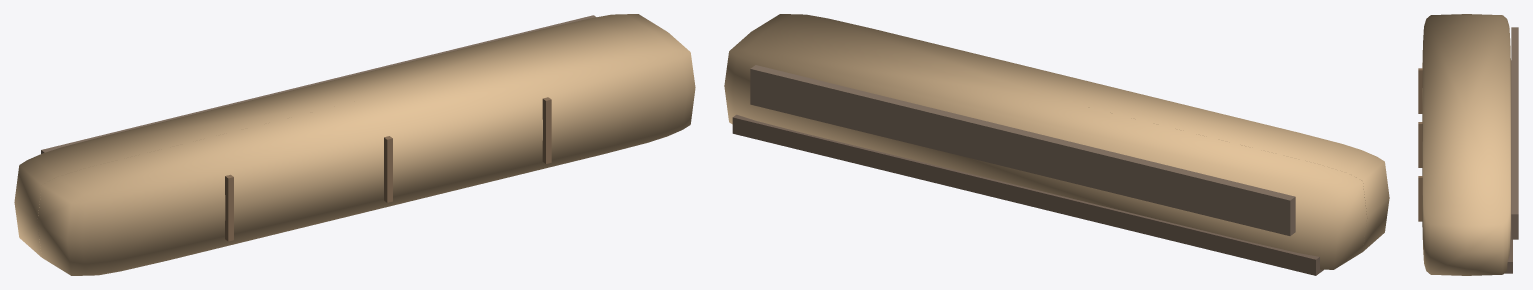
File: floating_tv_cabinet_2000x350.glb
The picture shows the model from 3 angles, left to right: view 1: azimuth 30°, elevation 25°; view 2: azimuth 150°, elevation 25°; view 3: azimuth 270°, elevation 25°; orthographic projection. The views are drawn at different scales.
Parts seen in each view (by area): view 1: low_media_body, front_door_gap (×3), wall_mount_shadow; view 2: low_media_body, wall_mount_shadow, dark_recess_shadow; view 3: low_media_body, wall_mount_shadow, front_door_gap (×3), dark_recess_shadow.
Boxes of the visible parts, bbox=[...] form: low_media_body: bbox=[14, 14, 695, 275]; front_door_gap (×3): bbox=[225, 97, 551, 241]; wall_mount_shadow: bbox=[41, 15, 596, 153]; low_media_body: bbox=[724, 14, 1389, 269]; wall_mount_shadow: bbox=[750, 65, 1295, 235]; dark_recess_shadow: bbox=[732, 114, 1323, 275]; low_media_body: bbox=[1422, 14, 1510, 275]; wall_mount_shadow: bbox=[1511, 27, 1518, 239]; front_door_gap (×3): bbox=[1418, 68, 1422, 221]; dark_recess_shadow: bbox=[1504, 60, 1512, 273].
Bounding box in the file's own units: 2 × 0.26 × 0.396.
